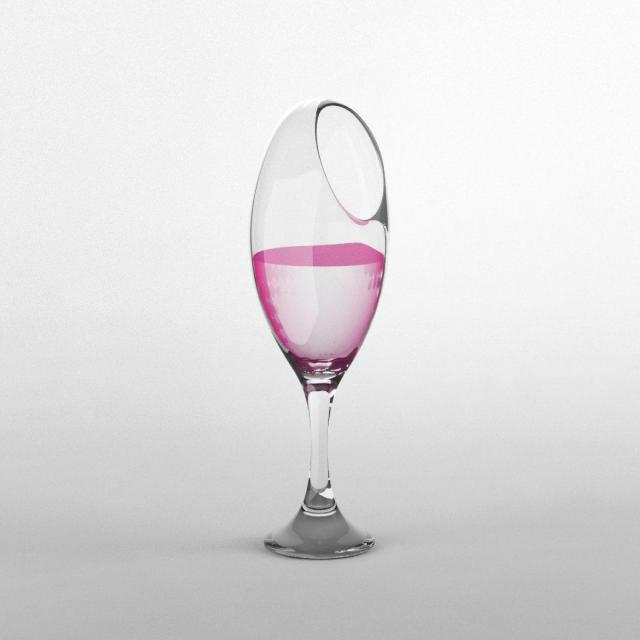non-organic waste: (243, 87, 400, 565)
